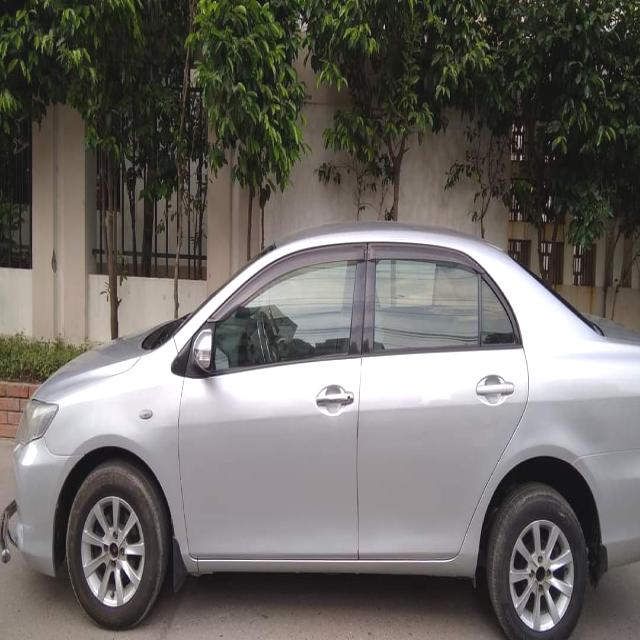silver: (0, 223, 640, 570)
